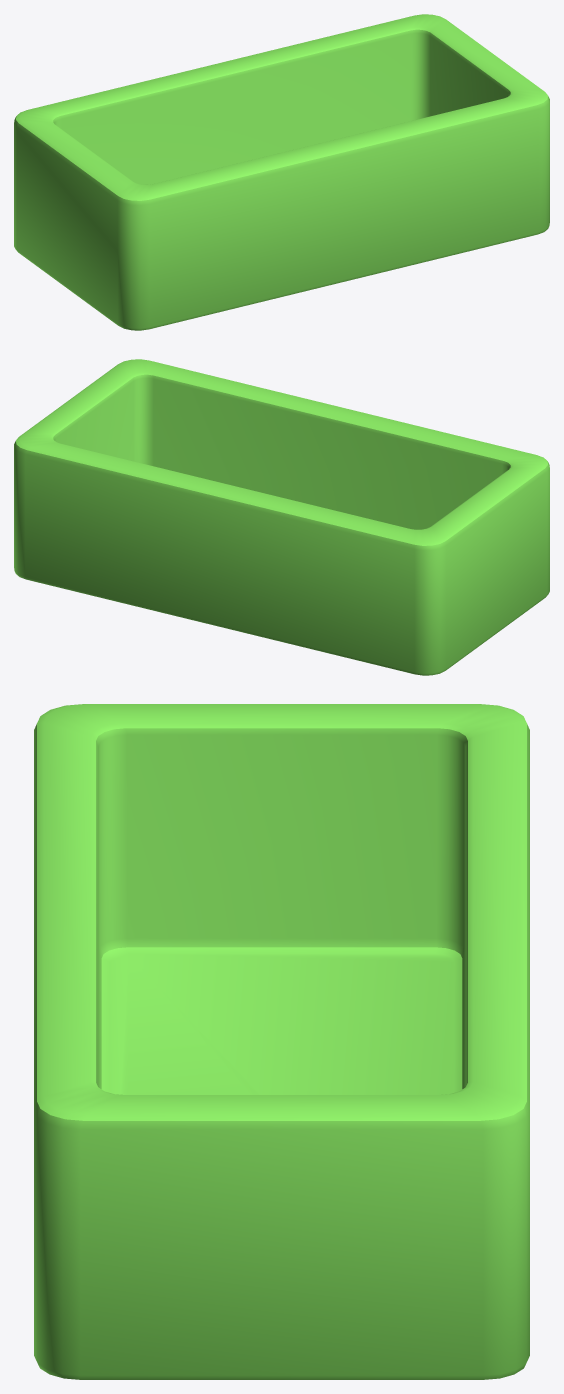
3 views of the same model, one above another, from view 1: azimuth 30°, elevation 25°; view 2: azimuth 150°, elevation 25°; view 3: azimuth 270°, elevation 25° (orthographic). The views are drawn at different scales.
Visible parts, largest first — view 1: Shape_2x1; view 2: Shape_2x1; view 3: Shape_2x1.
Part boxes in pixels (<box>): Shape_2x1: <box>14,14,549,330</box>; Shape_2x1: <box>14,359,549,675</box>; Shape_2x1: <box>34,704,529,1379</box>.
Size of the model in its own units: 1.7 by 0.5 by 0.85.
